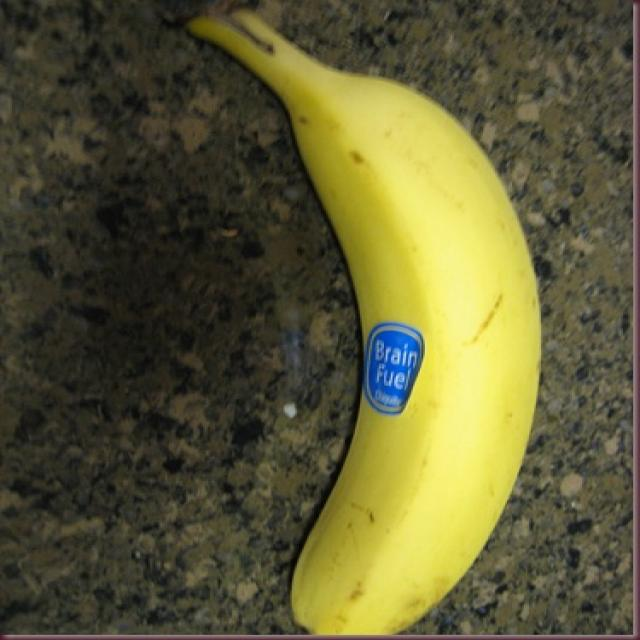Banana: (176, 4, 551, 640)
